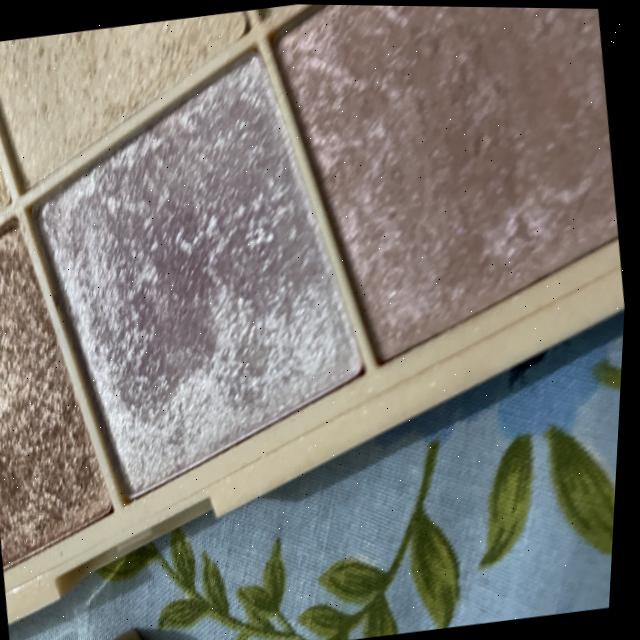highlighter: (0, 28, 409, 535), (242, 3, 640, 393), (0, 191, 155, 614), (0, 5, 284, 232)
